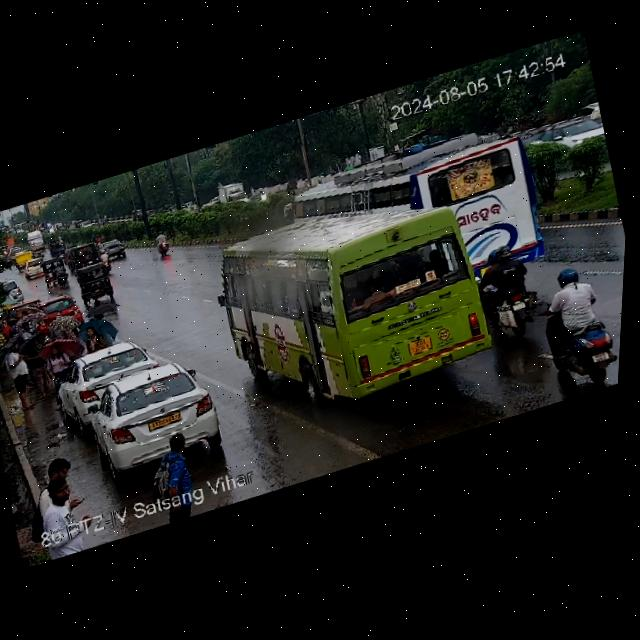bus: (192, 159, 506, 431), (297, 109, 552, 291)
car: (77, 348, 232, 480), (53, 333, 161, 420), (518, 111, 606, 161), (30, 287, 88, 339), (73, 258, 122, 306), (64, 239, 102, 273), (96, 234, 127, 264), (23, 256, 49, 279), (46, 236, 68, 258)
motorcycle: (525, 260, 624, 394), (475, 239, 546, 341), (38, 255, 70, 291), (150, 224, 177, 259)
person: (20, 440, 102, 552), (138, 424, 217, 522), (0, 338, 42, 411), (37, 339, 78, 388), (79, 323, 108, 357)
truck: (214, 177, 253, 212)
